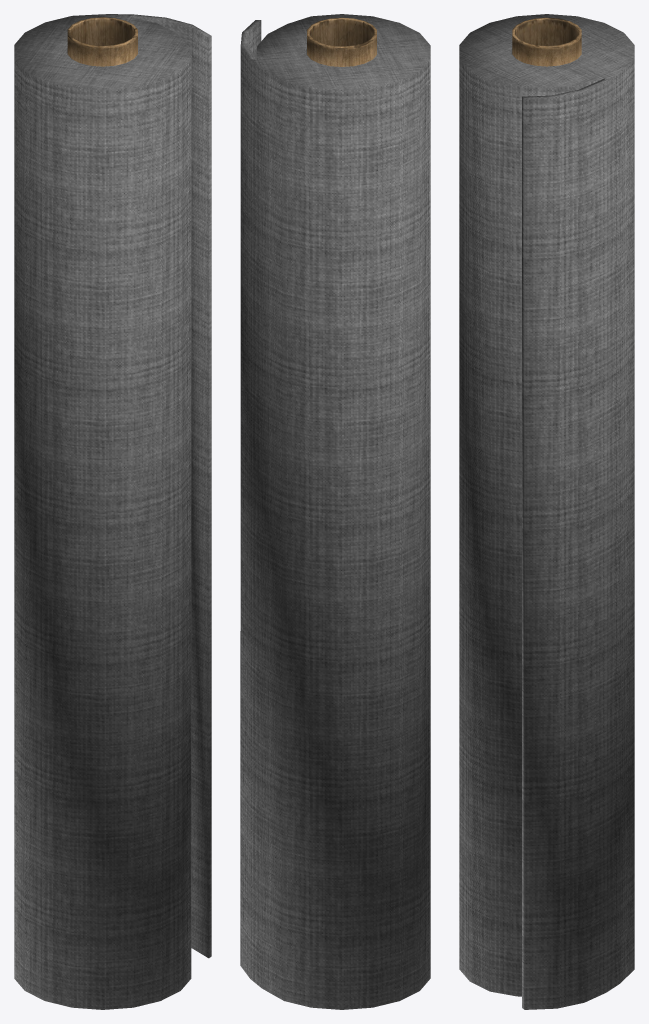
Rendered from Fabric.fbx.
The picture shows the model from 3 angles, left to right: view 1: azimuth 30°, elevation 25°; view 2: azimuth 150°, elevation 25°; view 3: azimuth 270°, elevation 25°; orthographic projection.
Parts seen in each view (by area): view 1: defaultMaterial, defaultMaterial.001; view 2: defaultMaterial, defaultMaterial.001; view 3: defaultMaterial, defaultMaterial.001.
Part boxes in pixels (box(x1,y1,x2,y2)): defaultMaterial: box(14, 14, 211, 1009); defaultMaterial.001: box(67, 17, 137, 66); defaultMaterial: box(240, 14, 430, 1009); defaultMaterial.001: box(307, 17, 376, 66); defaultMaterial: box(459, 14, 634, 1009); defaultMaterial.001: box(512, 17, 581, 66).
Size of the model in its own units: 38.33 by 200 by 33.49.
Materials: 2 (2 with a texture image).
